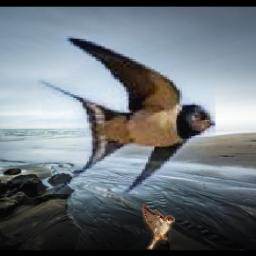Sparrow: (142, 204, 175, 249)
Swallow: (37, 34, 215, 194)
